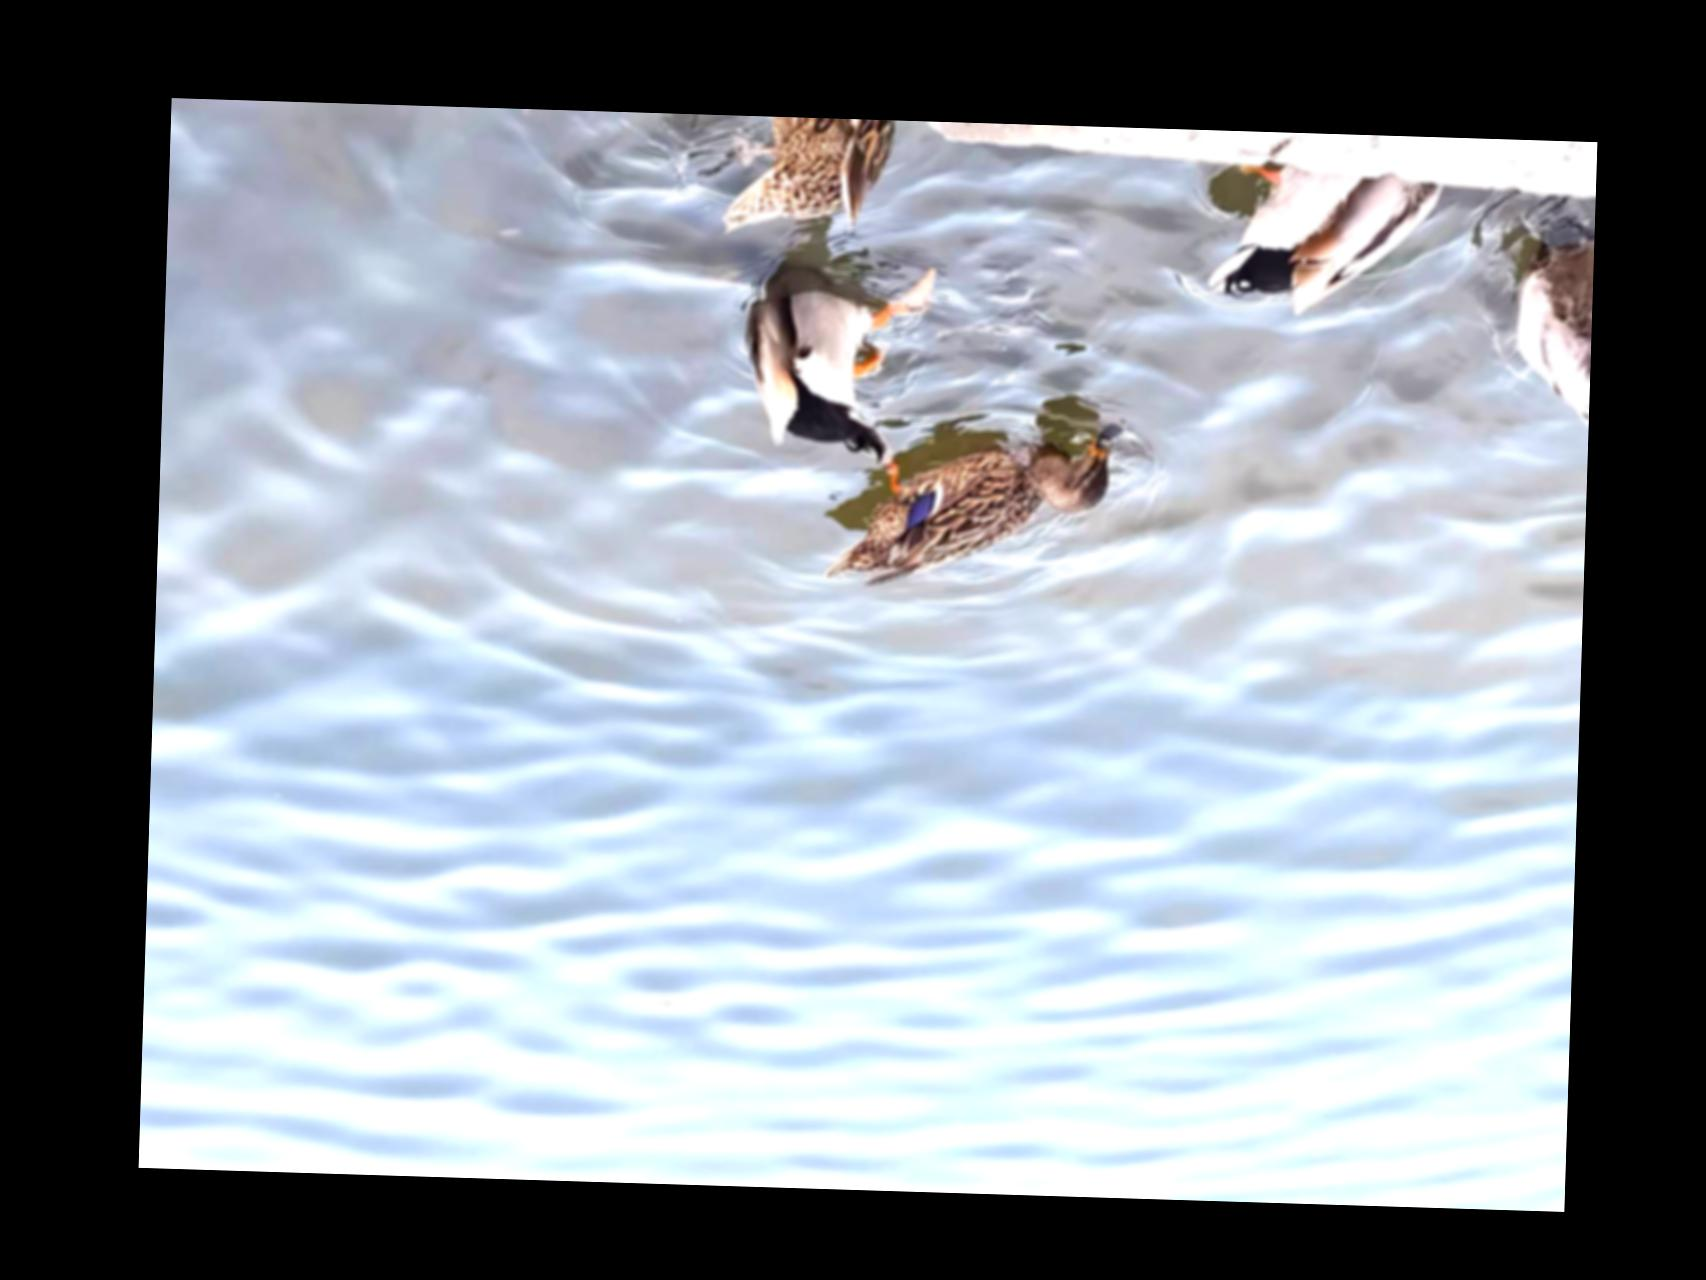duck: (811, 401, 1120, 605), (714, 257, 934, 480), (1192, 165, 1438, 317), (704, 113, 887, 247), (1499, 219, 1593, 437)
